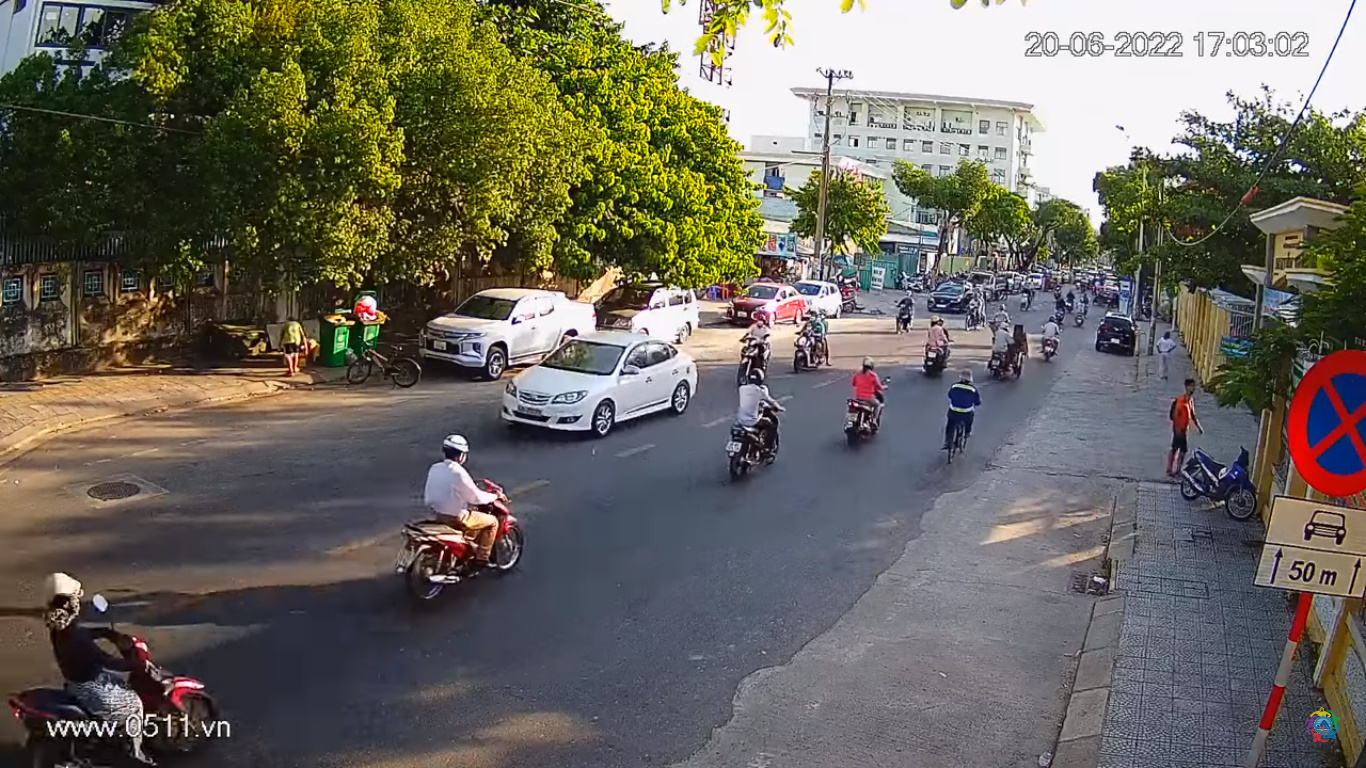car: (502, 335, 703, 447)
